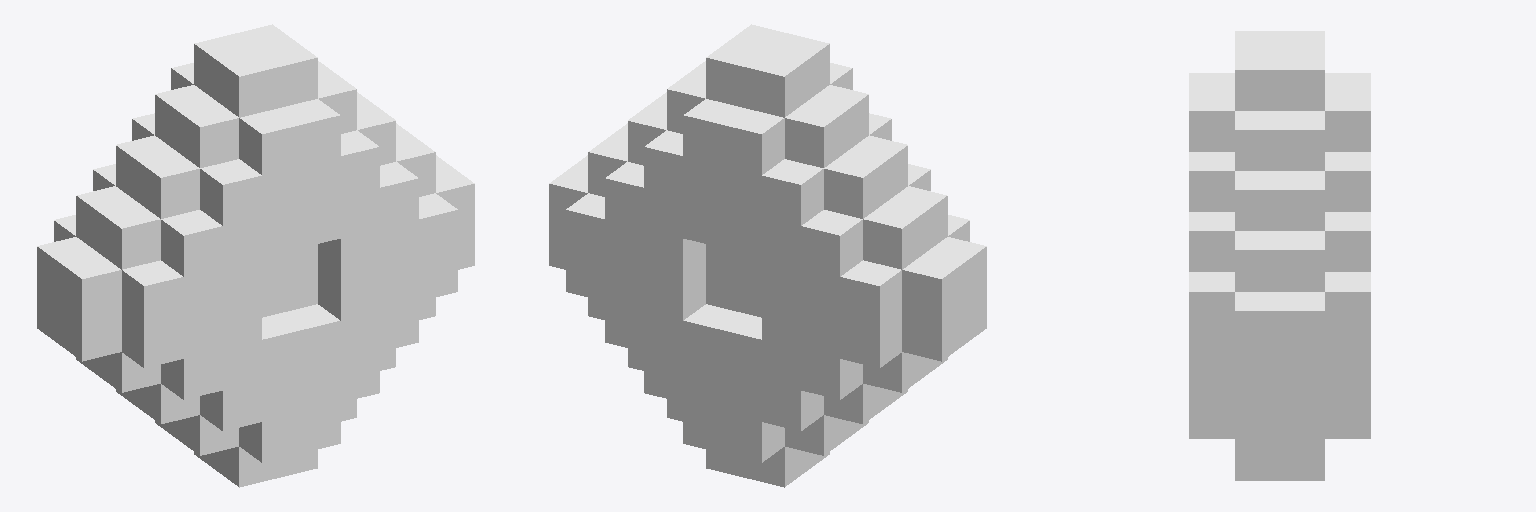
Rendered from PotentiometerUnity.obj.
The picture shows the model from 3 angles: view 1: azimuth 30°, elevation 25°; view 2: azimuth 150°, elevation 25°; view 3: azimuth 270°, elevation 25°; orthographic projection.
Size of the model in its own units: 10 by 10 by 4.